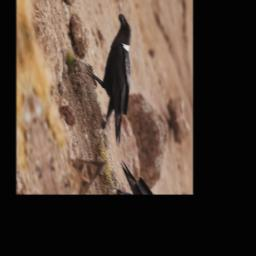Crow: (76, 7, 154, 157)
